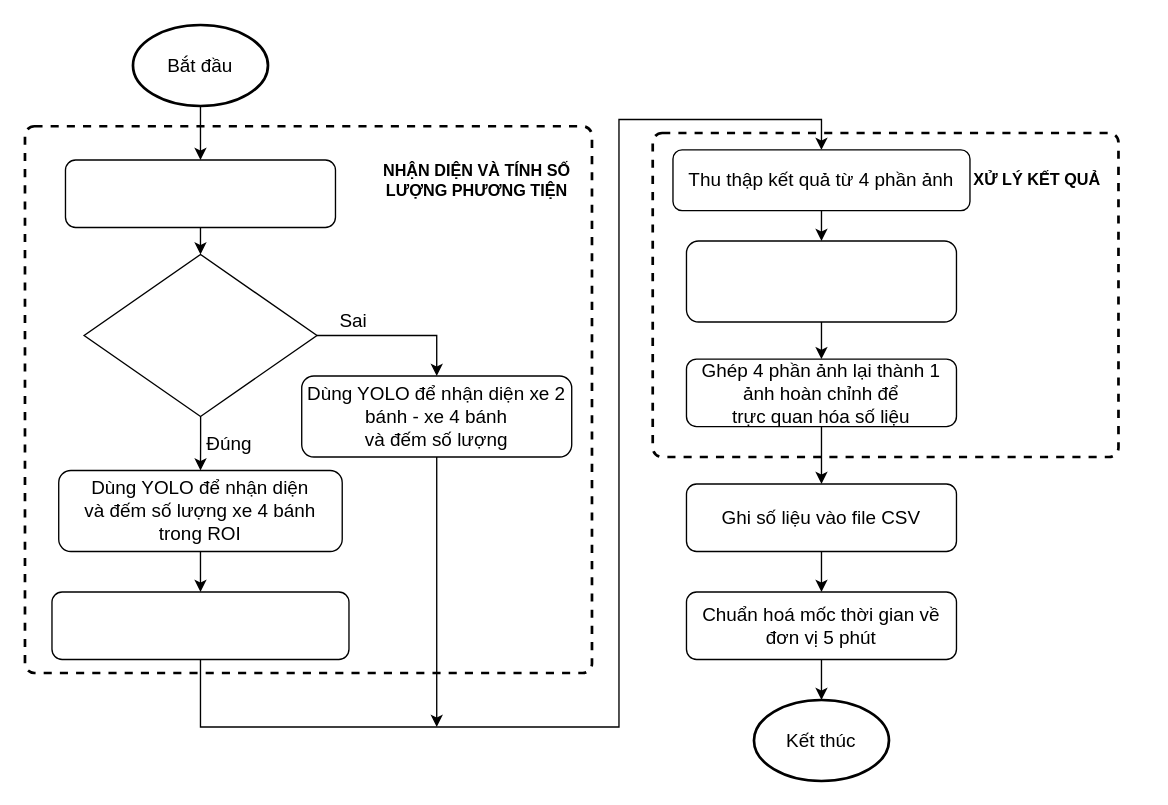
Image size: 1168x805. Some labels were removed from this diagram. Each missing label, with the centre of its shape:
Loại bỏ phát hiện trùng lập các phương tiện ở các rìa của ảnh: pixel 820 281
Nhận lần lượt 4 ảnh đầu vào và xử lý từng ảnh: pixel 199 193
Phần ảnh có cấu hình phân vùng ROI ?: pixel 200 334
Tính tỷ lệ phần trăm che phủ của xe máy trong từng vùng ROI: pixel 200 625
